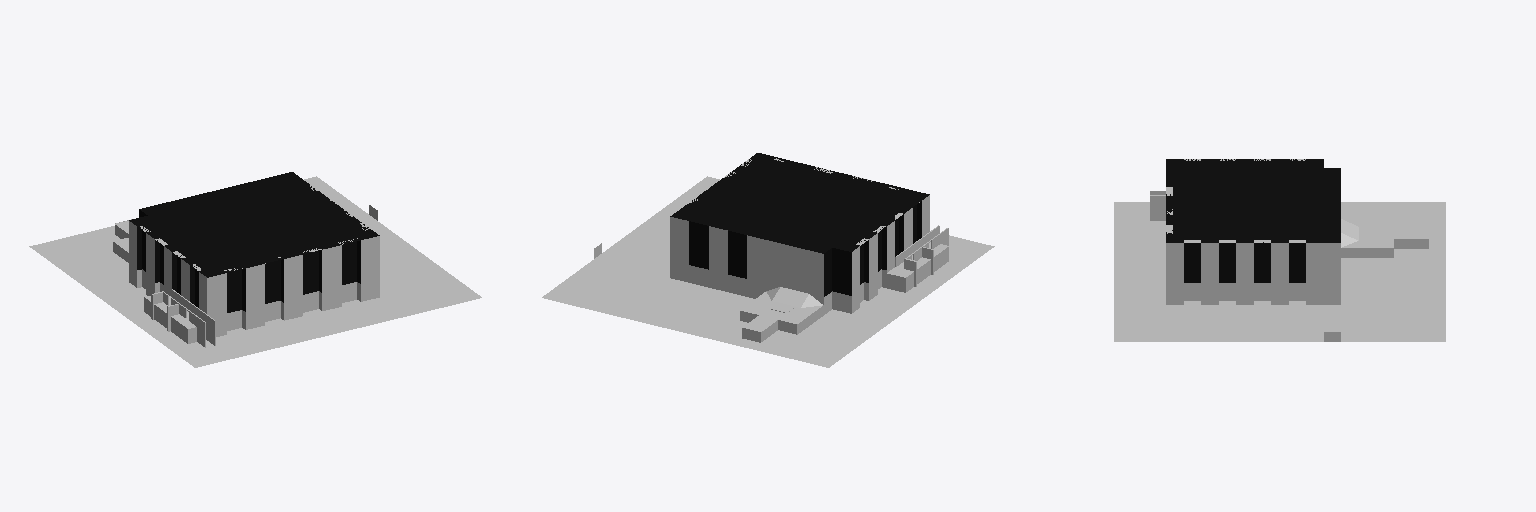
The model's file is LEVEL_3.obj.
3 renders of one model, left to right at view 1: azimuth 30°, elevation 25°; view 2: azimuth 150°, elevation 25°; view 3: azimuth 270°, elevation 25°, orthographic.
Parts seen in each view (by area): view 1: Plane.004, Plane.003, Plane.001, Cube.001; view 2: Plane.003, Plane.004, Plane.001, Cube.001; view 3: Plane.003, Plane.004, Plane.001.
Boxes of the visible parts, x1,y1,x2,y2 form: Plane.004: [129, 172, 379, 312]; Plane.003: [29, 176, 481, 367]; Plane.001: [113, 185, 379, 336]; Cube.001: [144, 289, 215, 347]; Plane.003: [542, 176, 994, 367]; Plane.004: [670, 153, 929, 296]; Plane.001: [594, 158, 929, 342]; Cube.001: [887, 225, 948, 292]; Plane.003: [1114, 202, 1445, 341]; Plane.004: [1166, 159, 1340, 282]; Plane.001: [1166, 159, 1428, 341].
Bounding box in the file's own units: 2 × 0.6045 × 2.